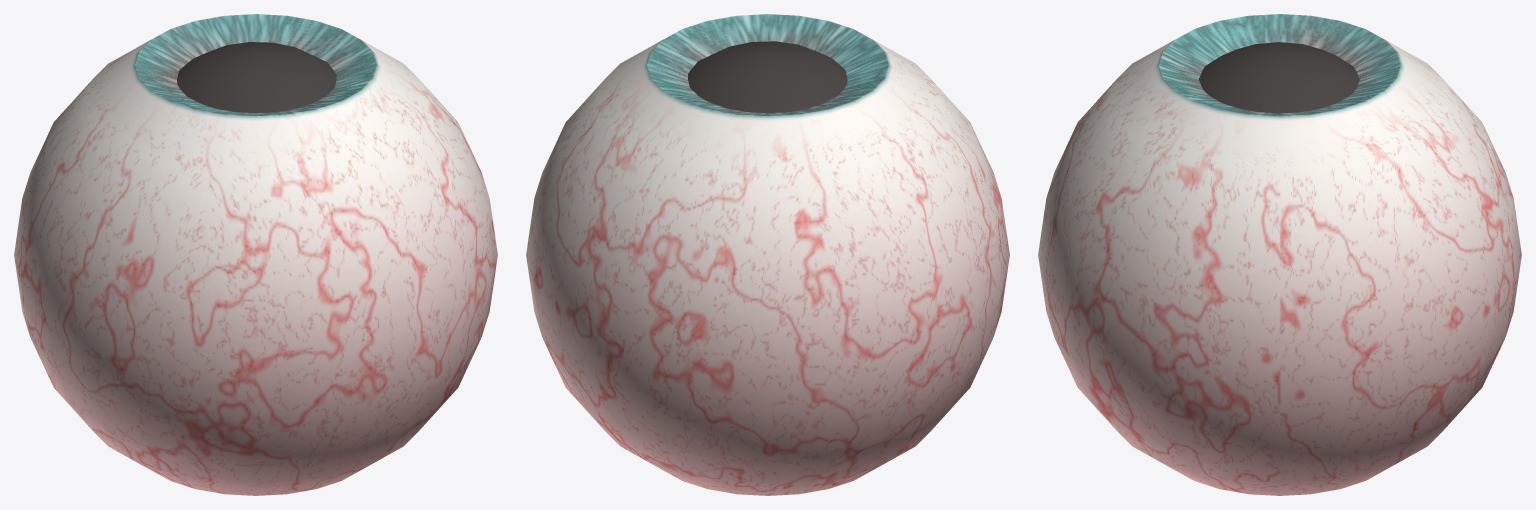
File: oeil.glb
3 renders of one model, left to right at view 1: azimuth 30°, elevation 25°; view 2: azimuth 150°, elevation 25°; view 3: azimuth 270°, elevation 25°, orthographic.
Visible parts, largest first — view 1: EYEBALL, Sphere; view 2: EYEBALL, Sphere; view 3: EYEBALL, Sphere.
Boxes of the visible parts, x1,y1,x2,y2 form: EYEBALL: (14, 14, 497, 495); Sphere: (177, 42, 336, 113); EYEBALL: (526, 14, 1009, 495); Sphere: (688, 41, 847, 112); EYEBALL: (1038, 14, 1521, 495); Sphere: (1199, 42, 1359, 113).
Bounding box in the file's own units: 24 × 22.86 × 24.
Materials: 2 (1 with a texture image).
